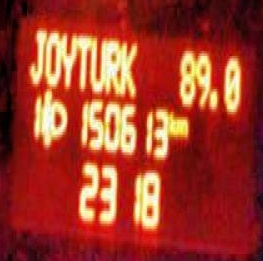-: (208, 86, 217, 109)
0: (221, 50, 242, 114), (103, 96, 119, 152)
1: (77, 94, 87, 145), (130, 170, 139, 226), (143, 101, 152, 155), (30, 89, 39, 140)
2: (77, 157, 97, 223)
3: (98, 160, 117, 223), (152, 104, 167, 157)
5: (88, 94, 103, 150)
6: (121, 99, 137, 155)
8: (176, 43, 196, 106), (140, 167, 159, 228)
9: (195, 45, 209, 109)
X: (119, 38, 136, 99), (27, 22, 43, 86), (59, 28, 75, 89), (44, 28, 59, 86), (89, 33, 104, 91), (75, 30, 89, 91), (105, 35, 119, 94), (175, 114, 188, 137), (167, 106, 176, 137)
